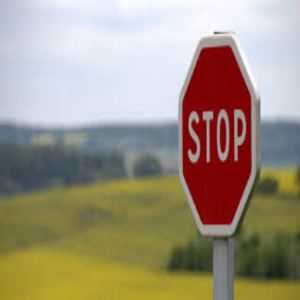STOP_SIGN: (177, 35, 261, 236)
